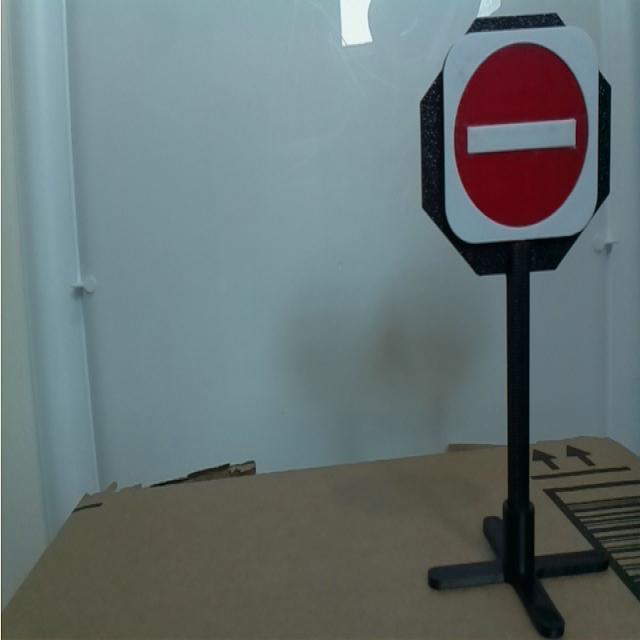sign_noentry: (444, 36, 614, 244)
